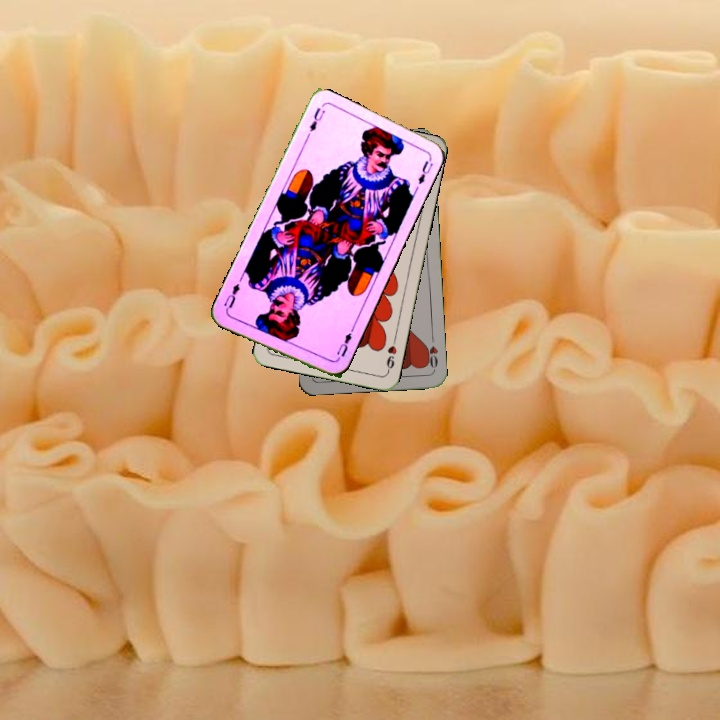EU: (332, 325, 356, 363), (305, 103, 328, 134)
H9: (382, 335, 399, 375)
HO: (421, 331, 441, 371)
